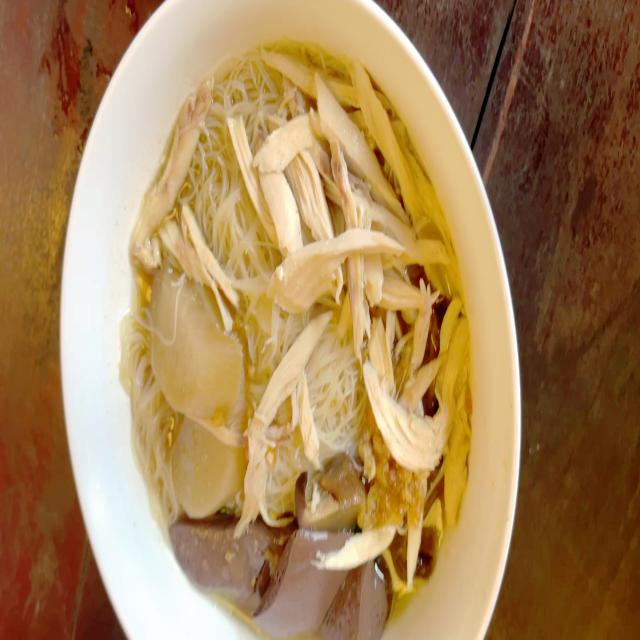boiled_chicken_blood_jelly: (178, 514, 386, 640)
chicken_shredded: (271, 53, 450, 413)
daikon_radish: (141, 272, 248, 420), (173, 420, 245, 508)
noodle: (120, 32, 480, 624)
